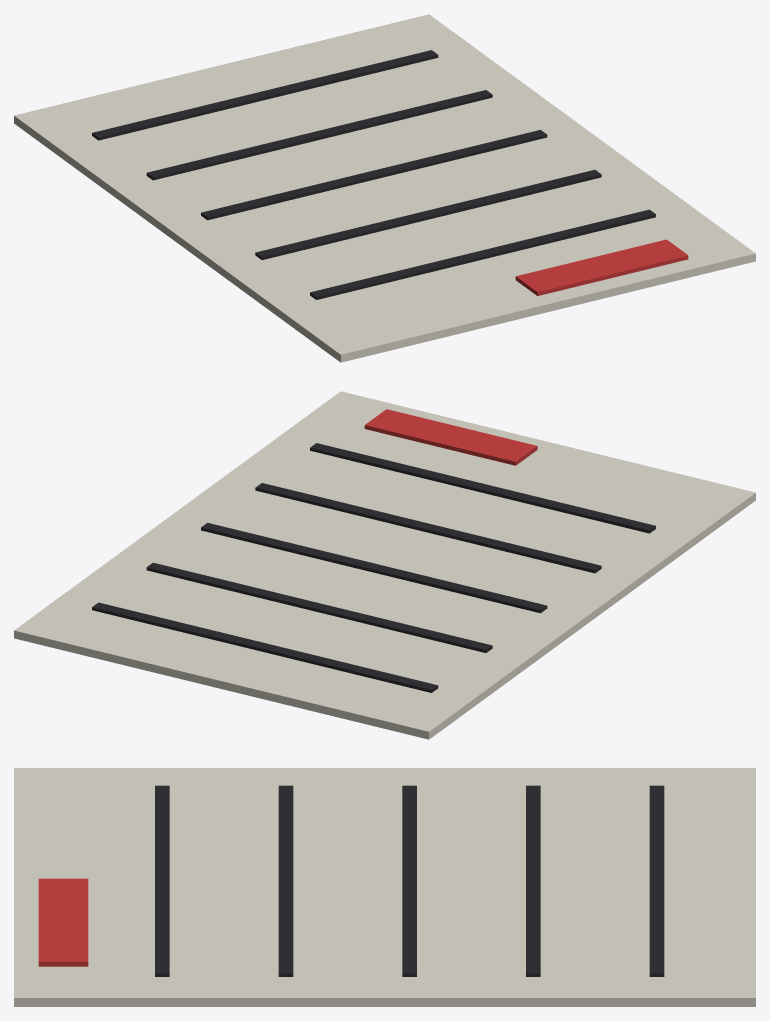
The model's file is piano_sheet.glb.
The picture shows the model from 3 angles, top to bottom: view 1: azimuth 30°, elevation 25°; view 2: azimuth 150°, elevation 25°; view 3: azimuth 270°, elevation 25°; orthographic projection. The views are drawn at different scales.
Visible parts, largest first — view 1: page_sheet_paper, staff_sheet_ink (×5), sums_sheet_red; view 2: page_sheet_paper, staff_sheet_ink (×5), sums_sheet_red; view 3: page_sheet_paper, staff_sheet_ink (×5), sums_sheet_red.
Boxes of the visible parts, x1,y1,x2,y2 form: page_sheet_paper: [14, 14, 755, 362]; staff_sheet_ink (×5): [92, 50, 655, 299]; sums_sheet_red: [515, 239, 688, 295]; page_sheet_paper: [14, 391, 755, 739]; staff_sheet_ink (×5): [92, 443, 655, 692]; sums_sheet_red: [364, 409, 537, 465]; page_sheet_paper: [14, 768, 755, 1006]; staff_sheet_ink (×5): [155, 785, 664, 976]; sums_sheet_red: [38, 878, 88, 966].
Bounding box in the file's own units: 0.22 × 0.006 × 0.3.
